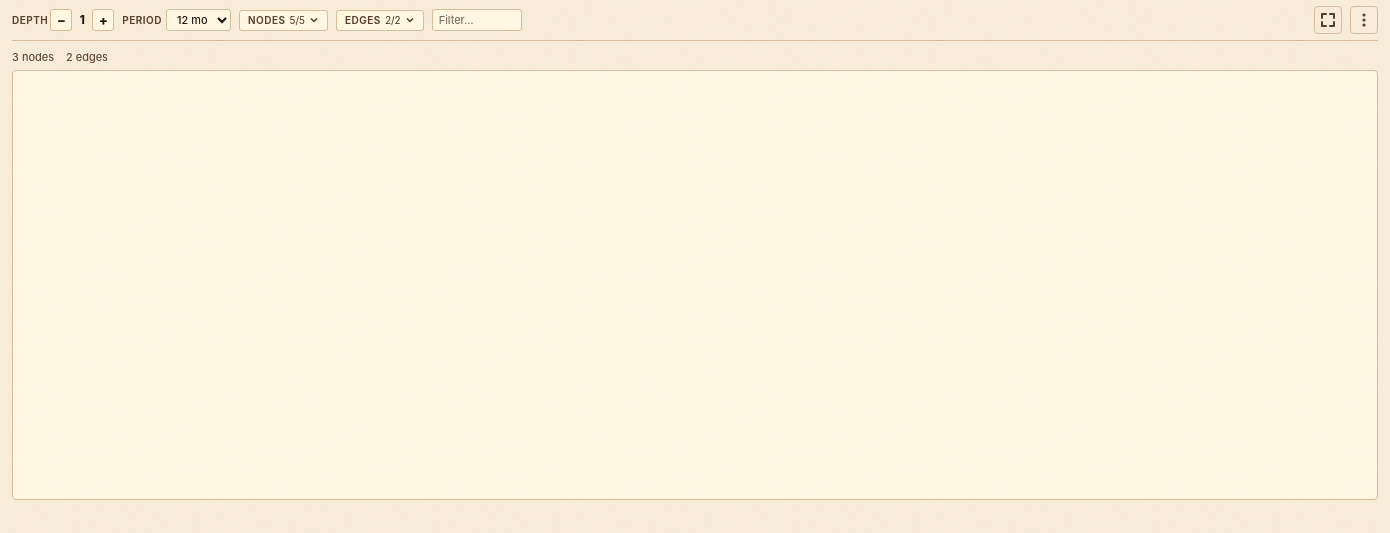
Test: GraphExplorer › shows saved views panel after saving and clicking "Saved" button
The width and height of the screenshot is (1390, 533).
Open options menu to find Saved button
Click the button with test id "ge-options-btn". click: (1364, 20)
box: [1350,6,1378,34]
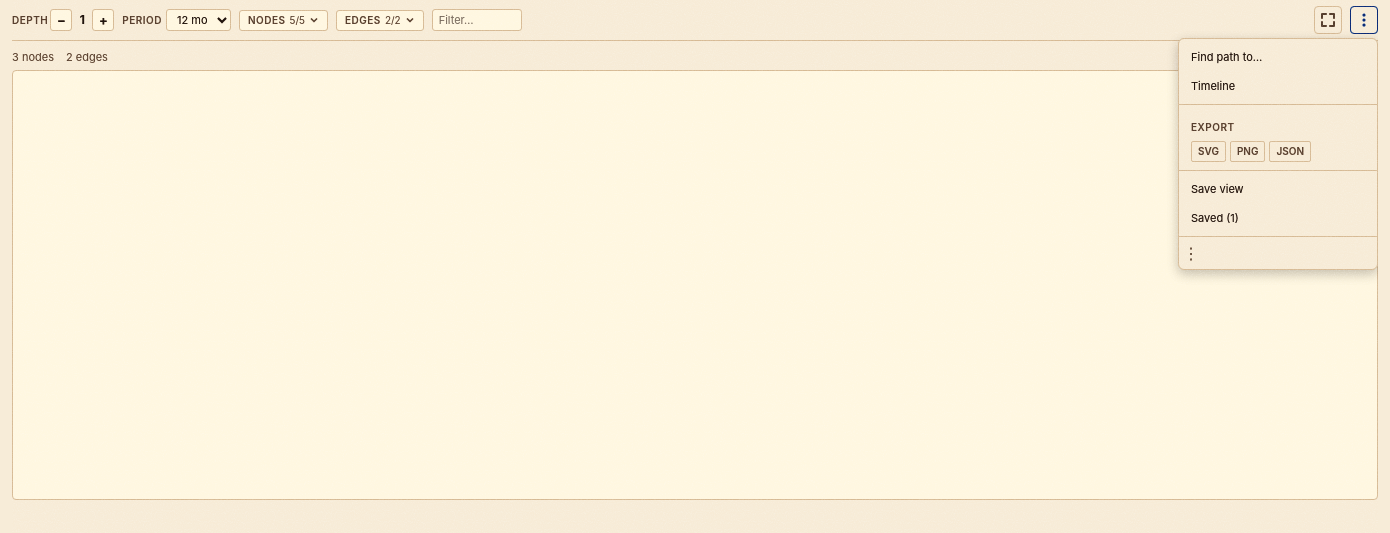
Result: the button with test id "ge-show-saved" is shown
Result: the button with test id "ge-show-saved" reads "Saved (1)"
Click the button with test id "ge-show-saved". click: (1278, 218)
box: [1179,204,1377,232]
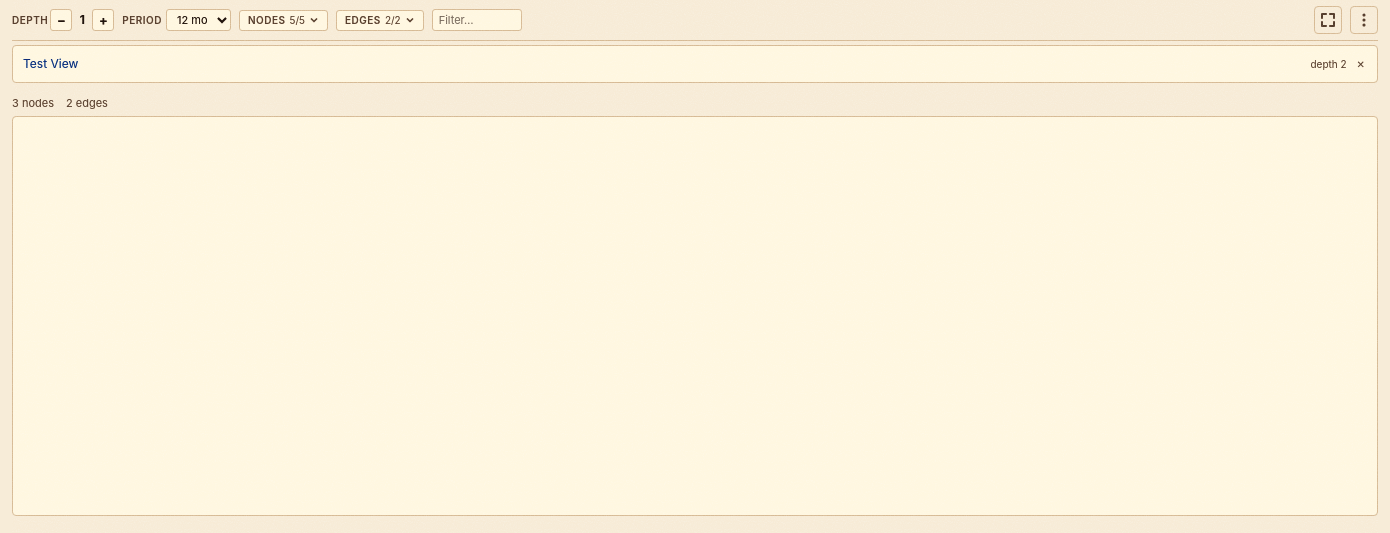
Result: the element with test id "ge-saved-panel" is shown at [12,45,1378,83]
Result: the text "Test View" is shown at [23,55,1302,73]
